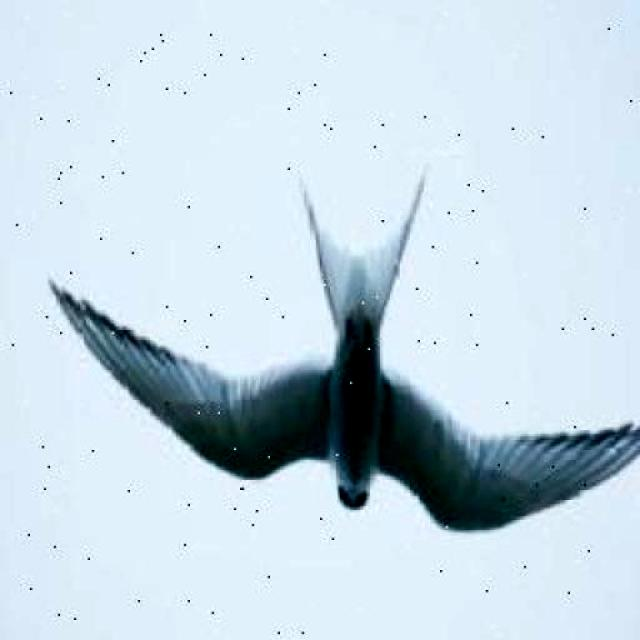airplane: (40, 139, 640, 569)
